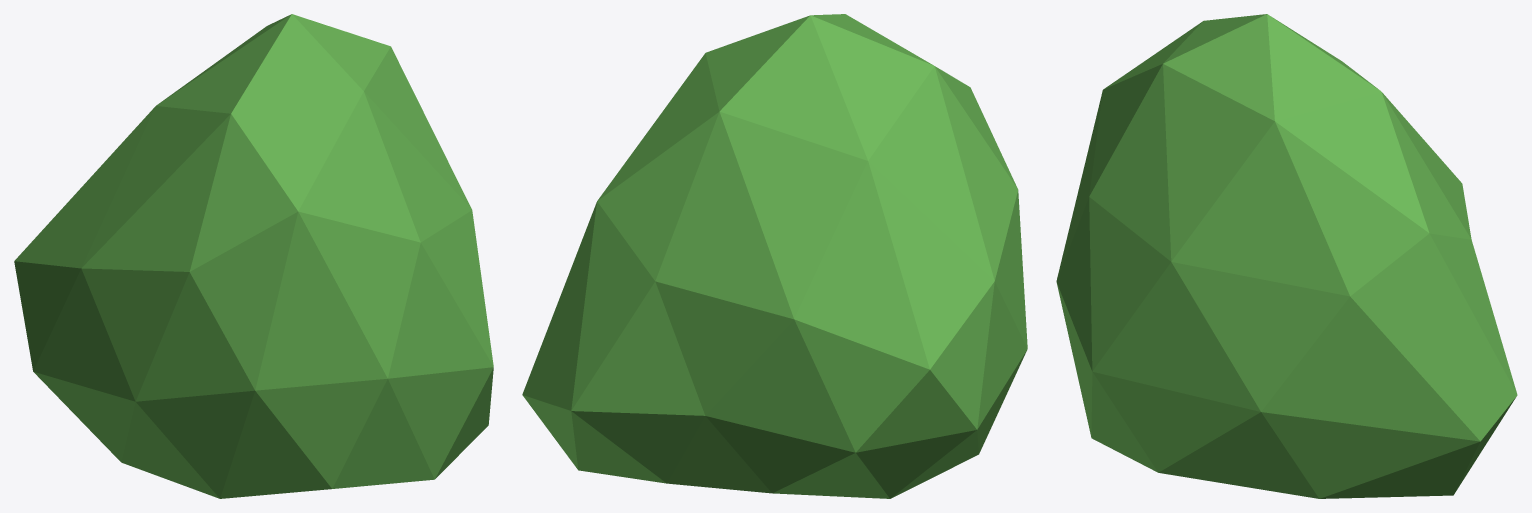
The model's file is Bush_01.glb.
3 renders of one model, left to right at view 1: azimuth 30°, elevation 25°; view 2: azimuth 150°, elevation 25°; view 3: azimuth 270°, elevation 25°, orthographic. The views are drawn at different scales.
Parts seen in each view (by area): view 1: Bush_01_LOD0; view 2: Bush_01_LOD0; view 3: Bush_01_LOD0.
Boxes of the visible parts, box(x1,y1,x2,y2) form: Bush_01_LOD0: box(14, 14, 493, 498); Bush_01_LOD0: box(522, 14, 1027, 498); Bush_01_LOD0: box(1056, 14, 1517, 498).
Size of what is drawn, in the model's own units: 0.7991 by 0.8293 by 0.8263.
1 material, 1 textured.
